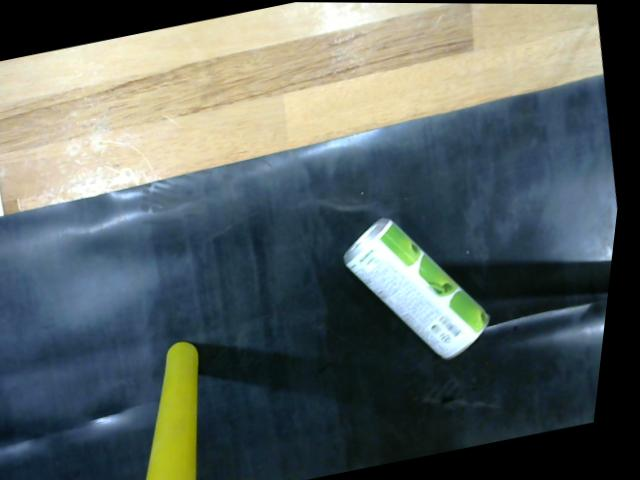can: (343, 213, 509, 369)
